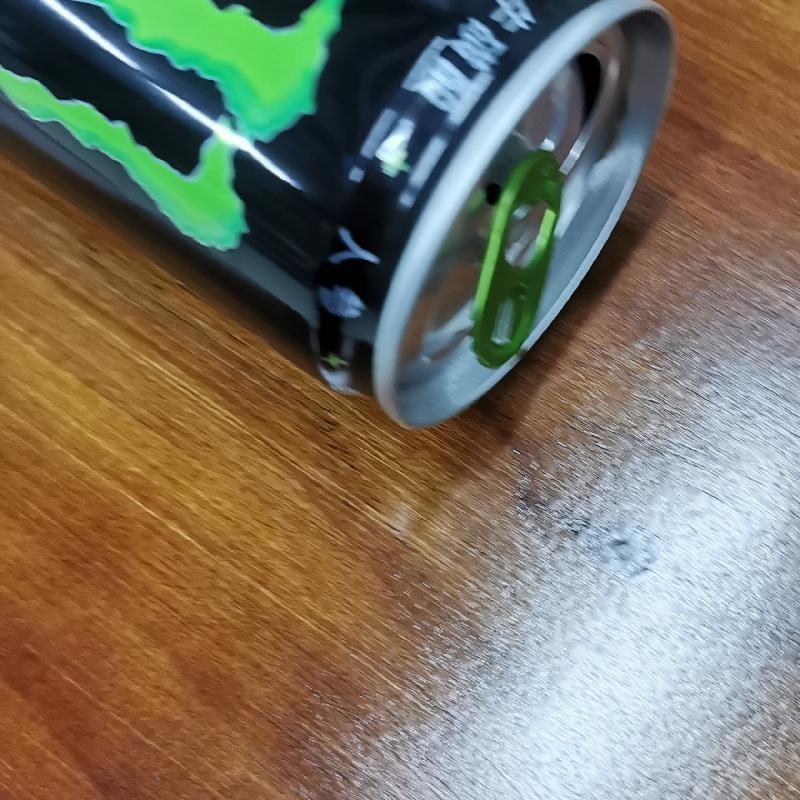cans: (2, 1, 681, 437)
